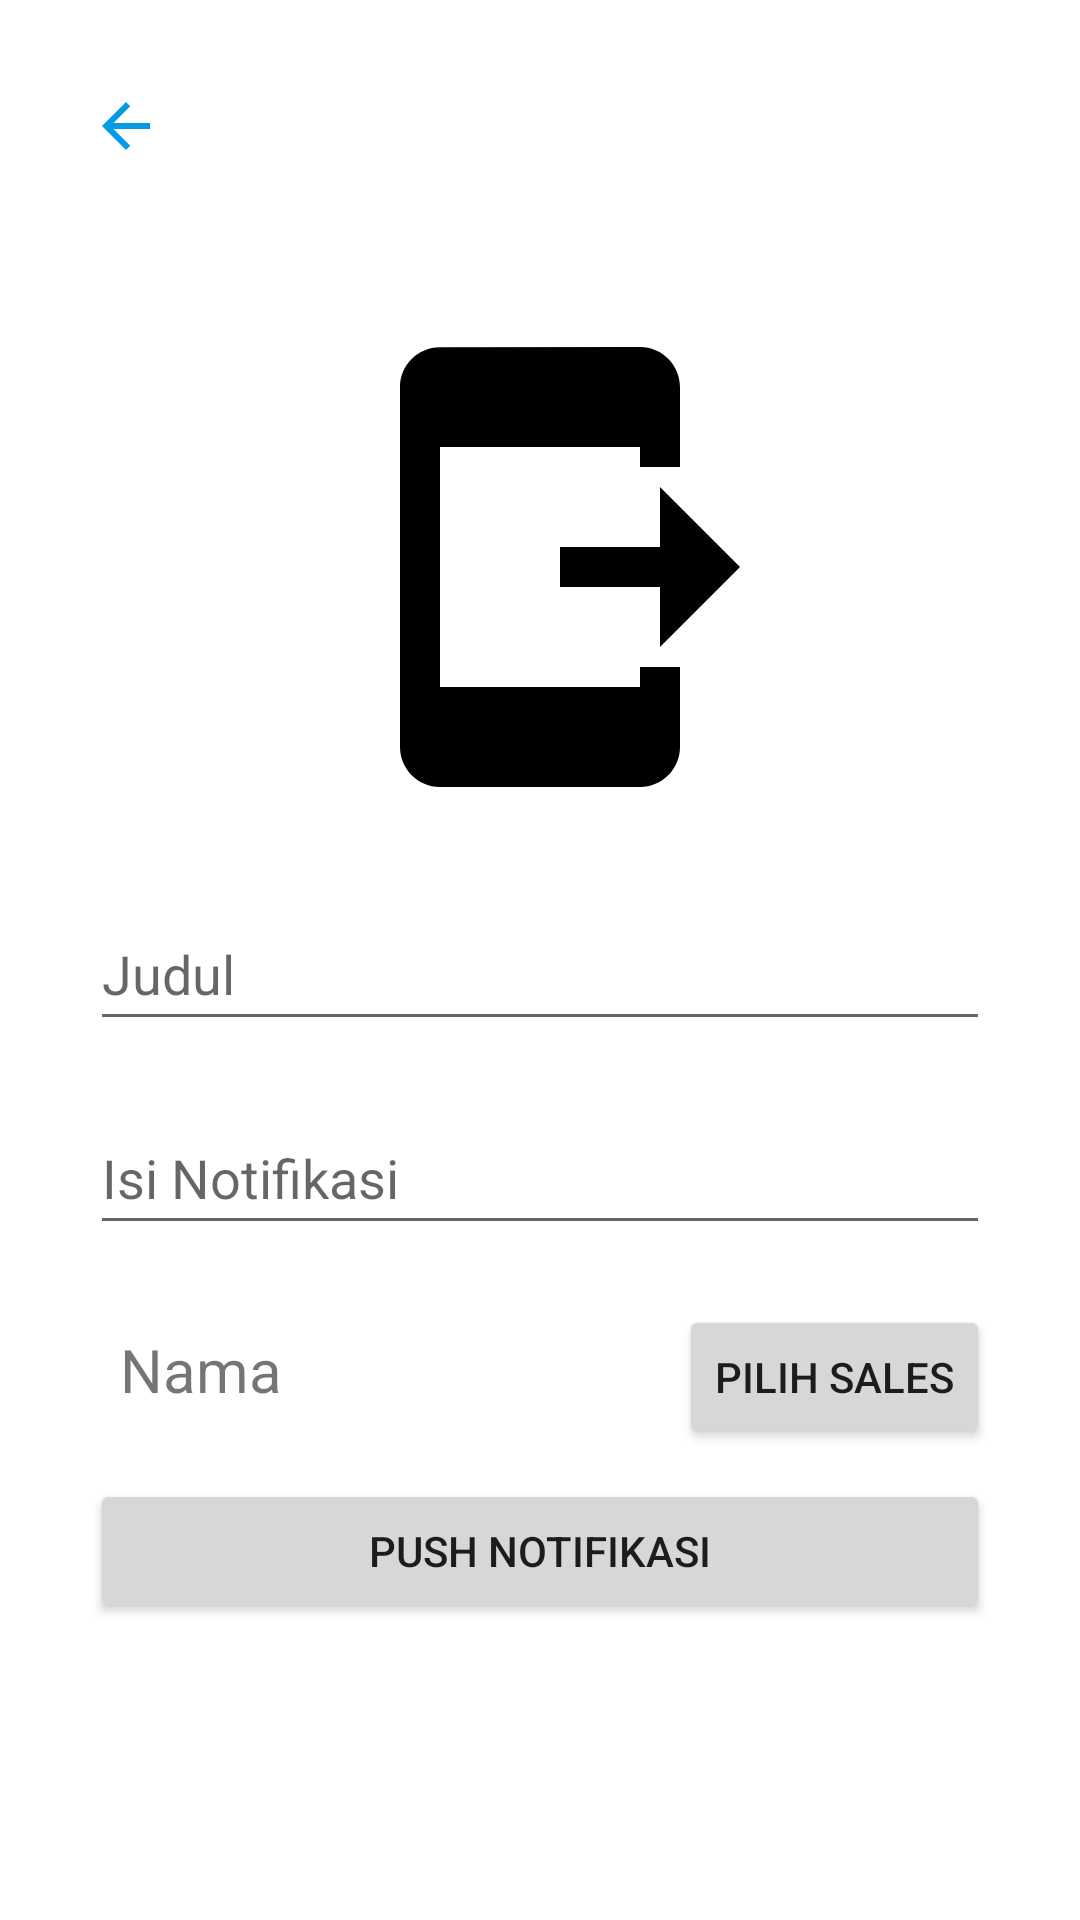

Locate icon controls on the screen. Image size 1080 × 1920, boxes as rect(x1, y1, x2, y2).
arrow back for frag: rect(102, 102, 150, 150)
